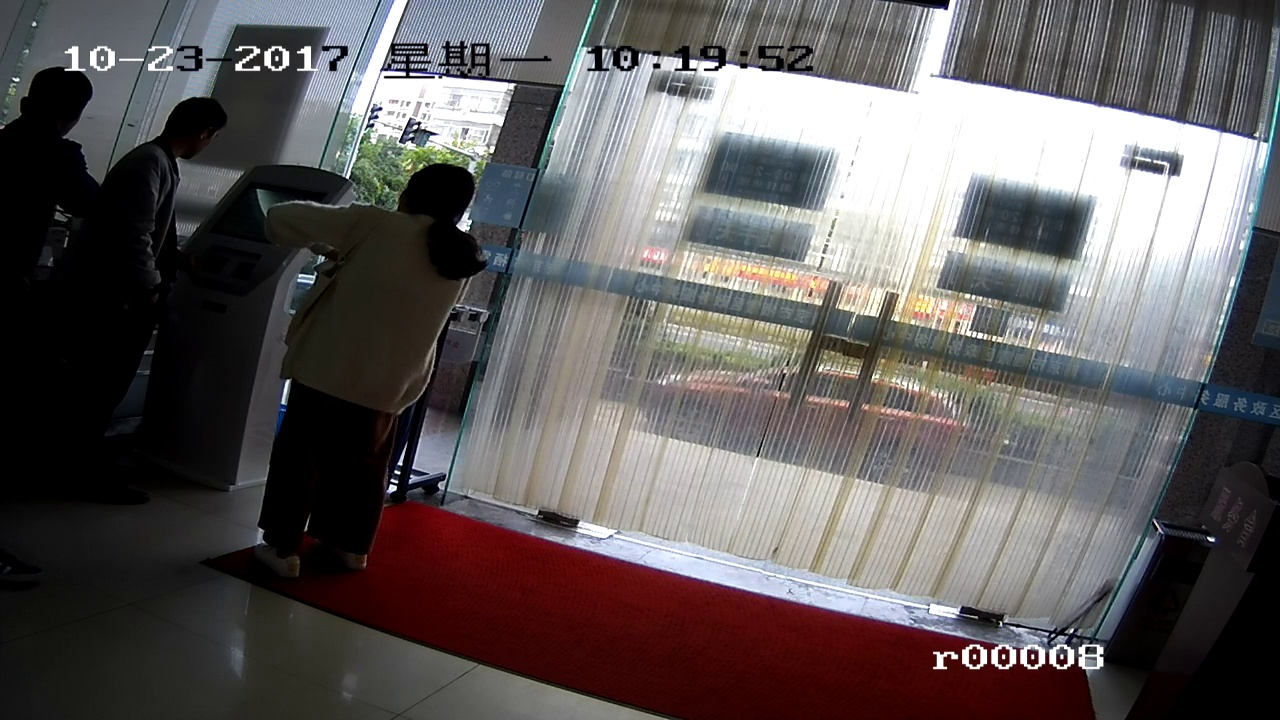person: (289, 163, 454, 580), (117, 93, 216, 481)
